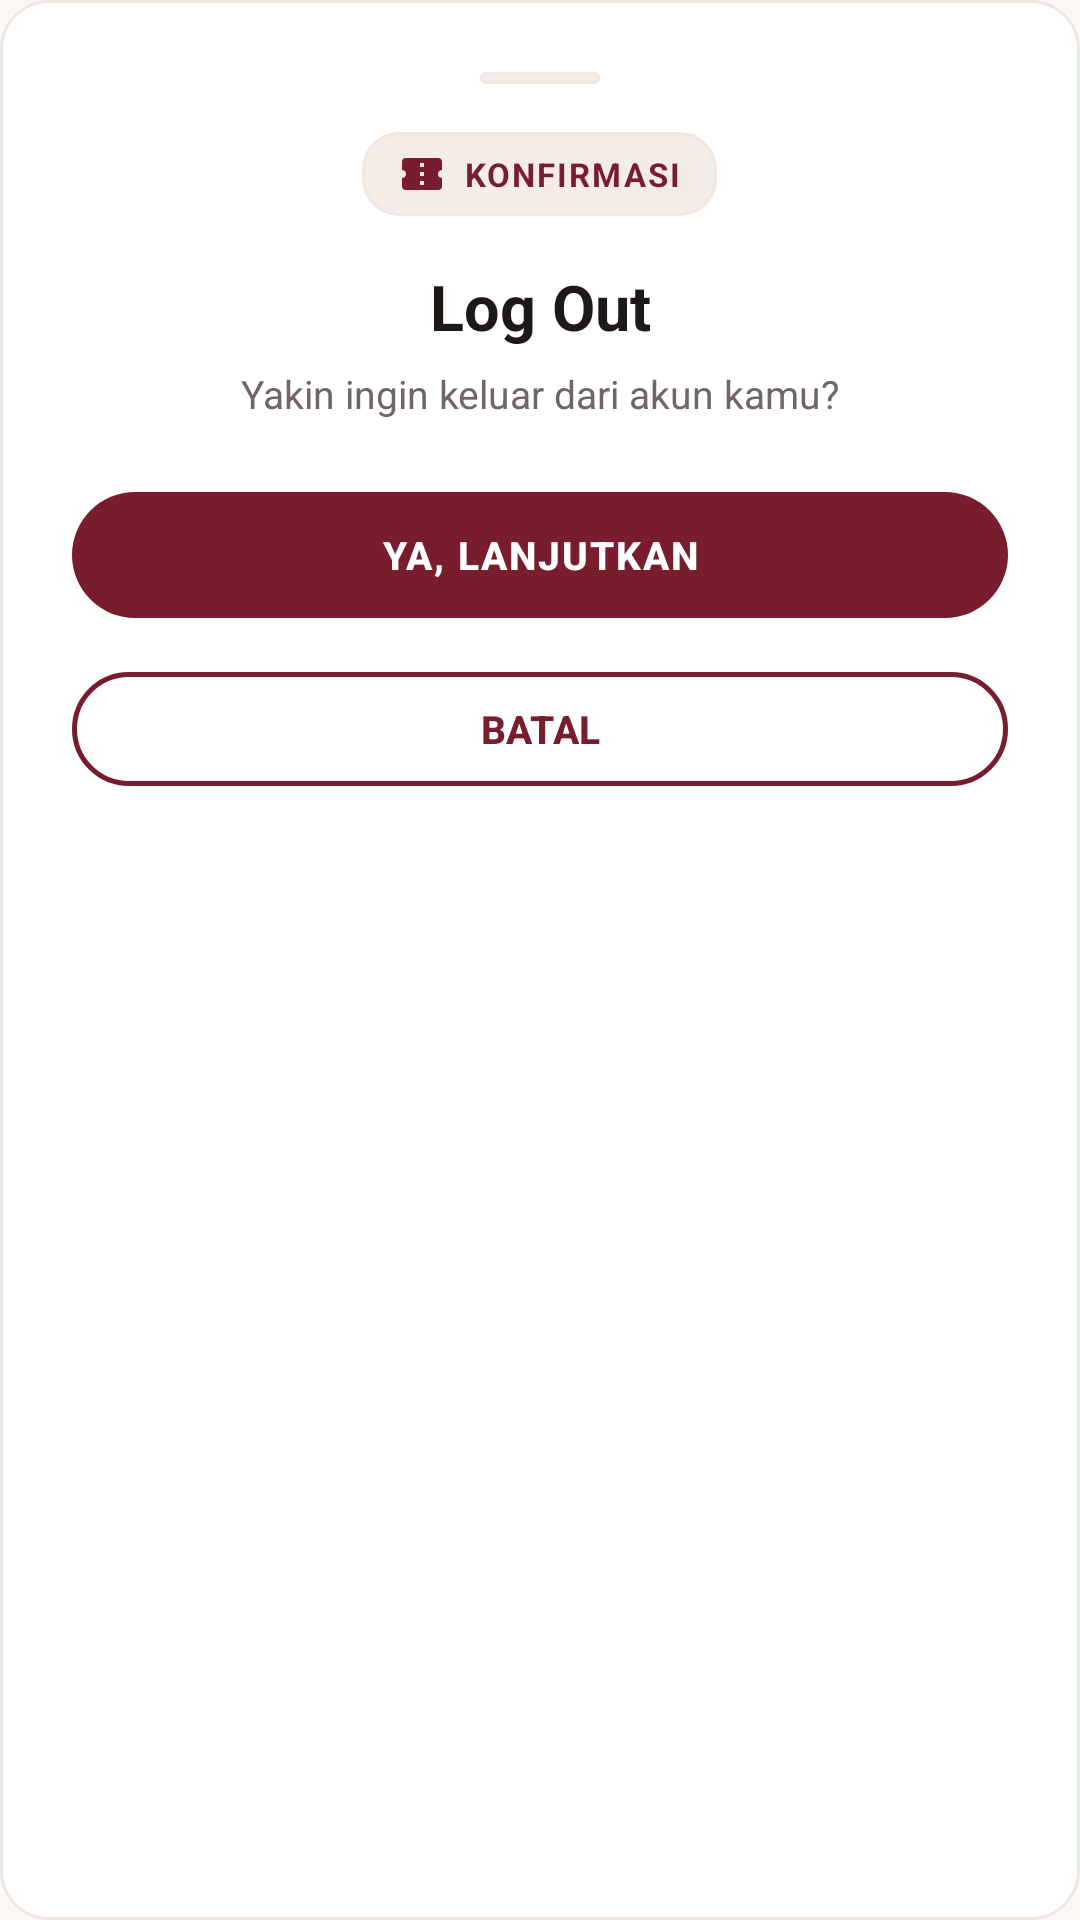

Locate icon controls on the screen. Image size 1080 x 1920, boxes as rect(x1, y1, x2, y2).
ticket: rect(402, 158, 442, 190)
